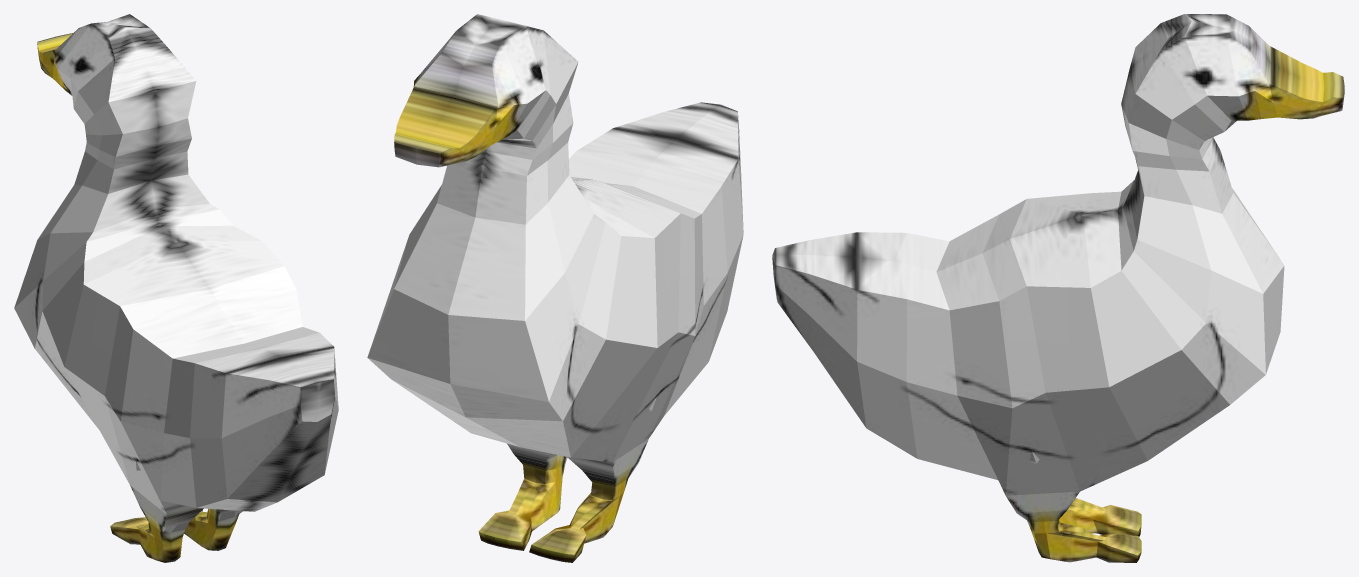
File: Duck.fbx
3 renders of one model, left to right at view 1: azimuth 30°, elevation 25°; view 2: azimuth 150°, elevation 25°; view 3: azimuth 270°, elevation 25°, orthographic. The views are drawn at different scales.
Visible parts, largest first — view 1: Cube; view 2: Cube; view 3: Cube.
Boxes of the visible parts, bbox=[...] form: Cube: bbox=[14, 14, 338, 562]; Cube: bbox=[367, 14, 743, 562]; Cube: bbox=[772, 14, 1344, 562].
Bounding box in the file's own units: 88.63 × 203 × 202.
1 material, 1 textured.
